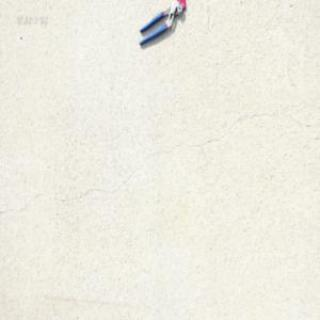LuggageTagtrack_idkeyframe: (176, 0, 190, 16)
Pliertrack_idkeyframe: (138, 0, 182, 47)
